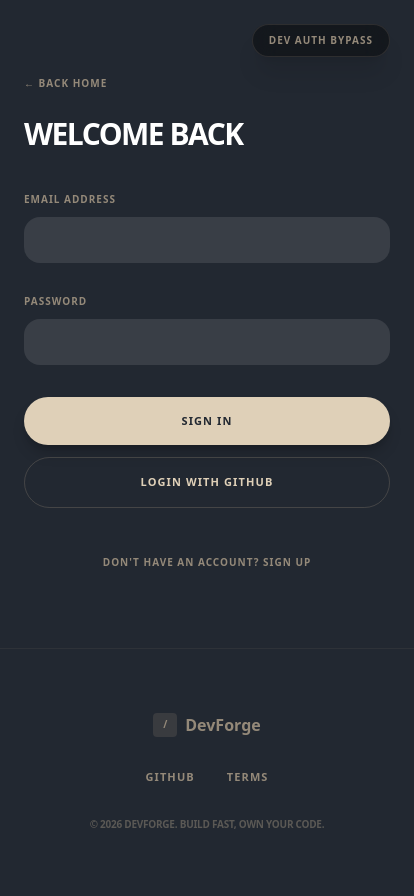
Scenario: Dev Auth Bypass › should work on mobile view using the dropdown
Click the button "Dev Auth Bypass": (321, 41) [252,24,390,57]
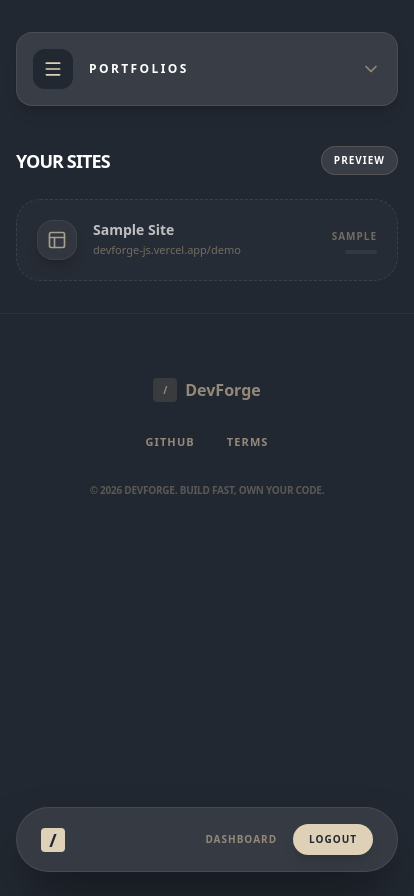
Expected: the button "Portfolios" is shown
// Open mobile nav trigger
Click the button "Portfolios": (53, 69) [16,32,398,106]
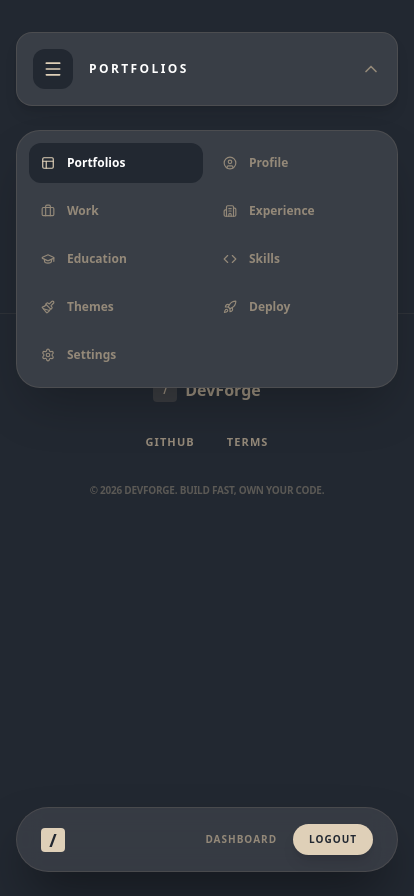
Expected: the button "Profile" is shown
// Verify dropdown menu is visible and contains options
Click the button "Profile": (298, 163) [211,143,385,183]
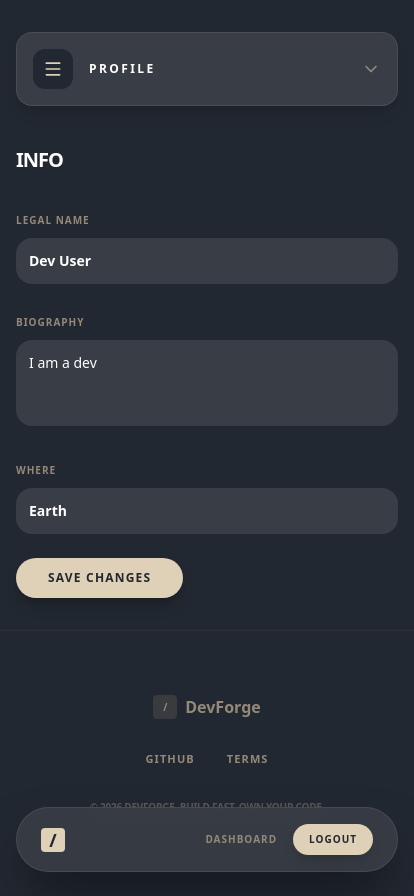
Expected: the text "Legal Name" is shown, [16,213,90,227]
Expected: the button "Profile" is shown, [16,32,398,106]
